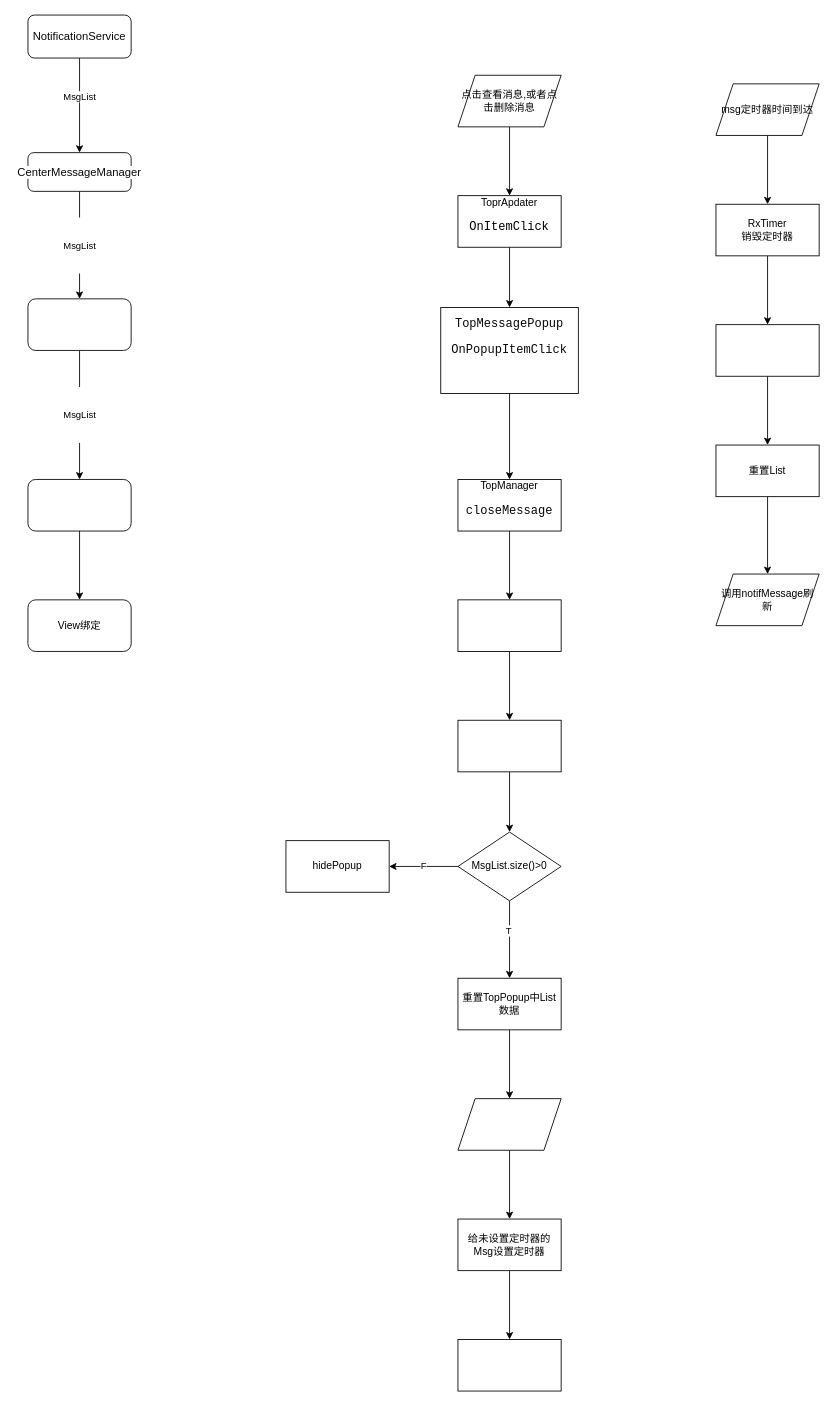
Some shapes in this 834 by 1406 pixel diagram are drawn without their labels. The shapes that lost their labels are listed below. From the top down, each one's centre as x and y in pixels, then its label:
point 79,324: CenterMessagePopup
point 767,350: MsgList移除该msg
point 79,505: CenterMessageAdapter
point 509,625: closeMessage() 1.删除定时器 2.MsgList.remove 3.update(List)
point 509,745: update(MsgList)
point 509,1124: 遍历MSGList
point 509,1365: 调用notifyData通知Adapter刷新数据
